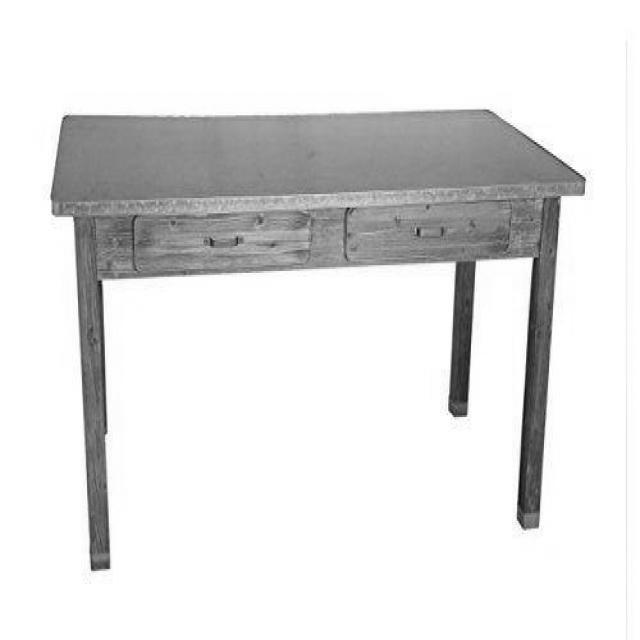table: (49, 111, 585, 568)
